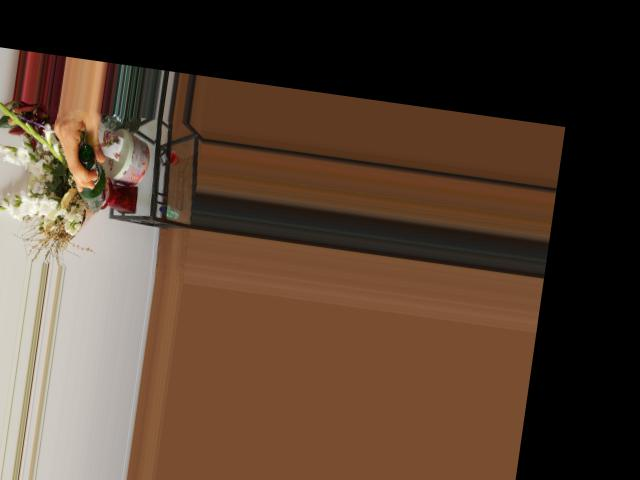beer: (71, 143, 112, 212)
